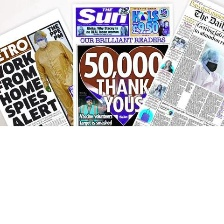news_paper: (128, 0, 224, 136), (72, 0, 172, 129), (0, 7, 87, 125)
